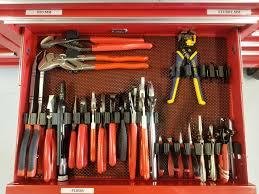pliers: (36, 50, 150, 71), (38, 34, 152, 50)
